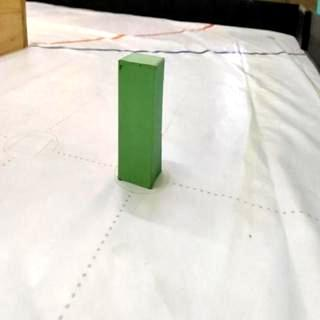greenbox: (118, 52, 166, 190)
